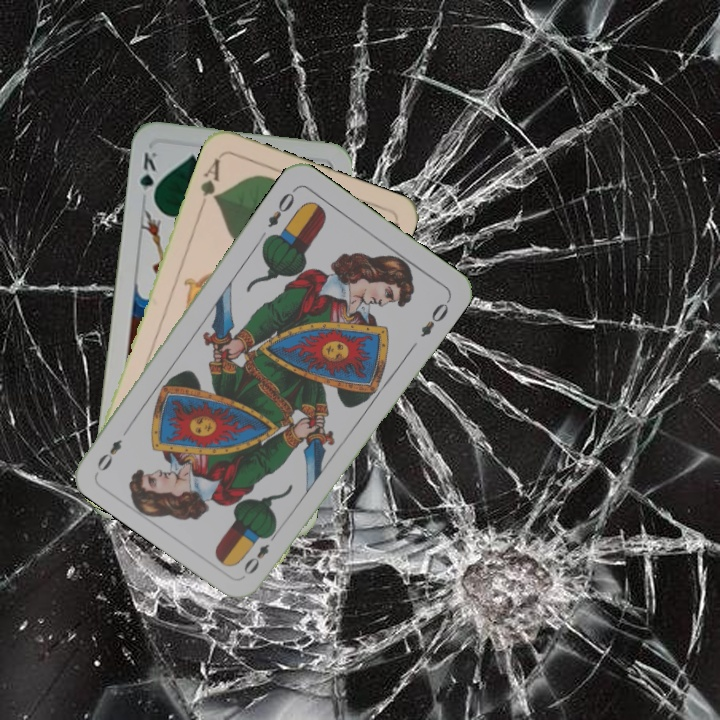EO: (239, 526, 281, 578), (263, 184, 299, 230)
GA: (196, 154, 223, 203)
GK: (136, 148, 160, 205)
